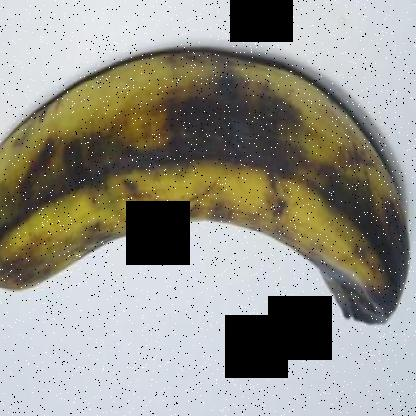overripe: (0, 20, 415, 340)
